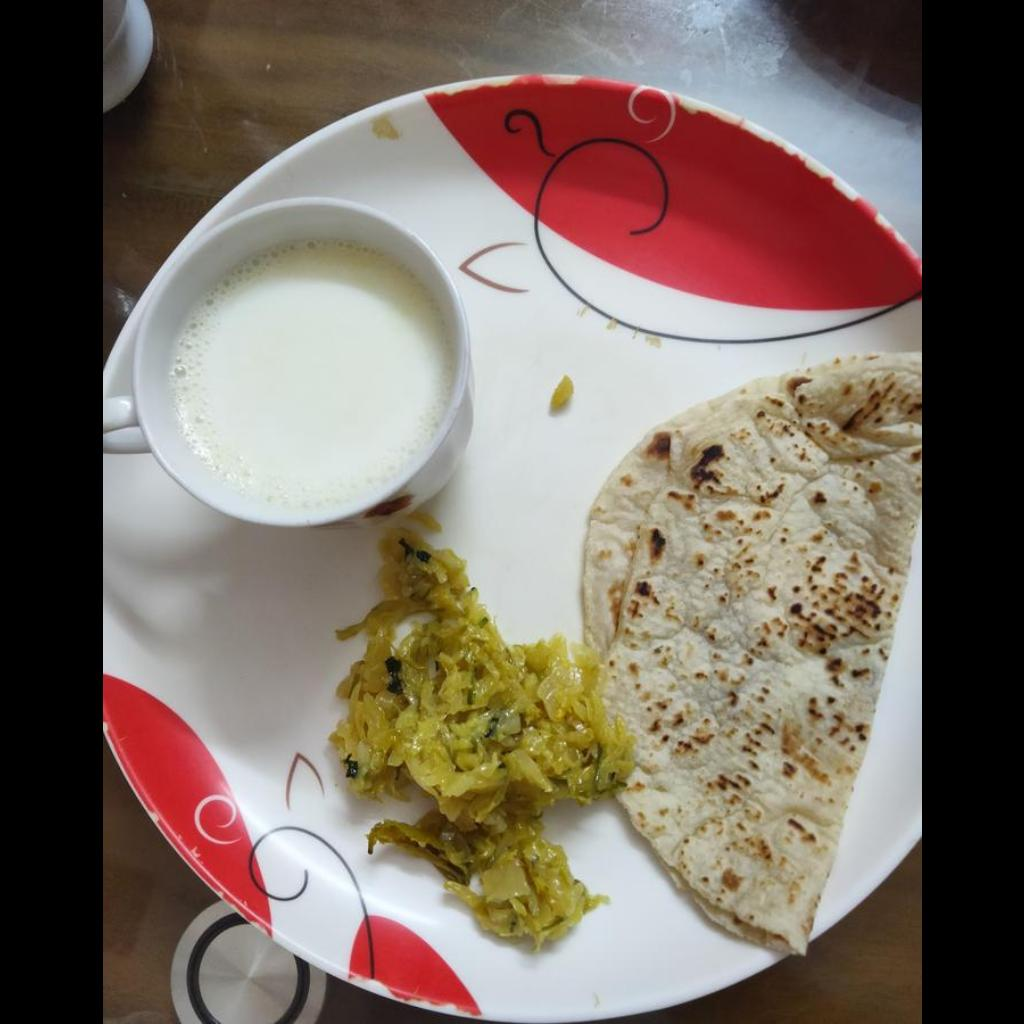milk: (176, 237, 454, 507)
ruti: (587, 350, 920, 949)
vaji: (331, 532, 627, 933)
